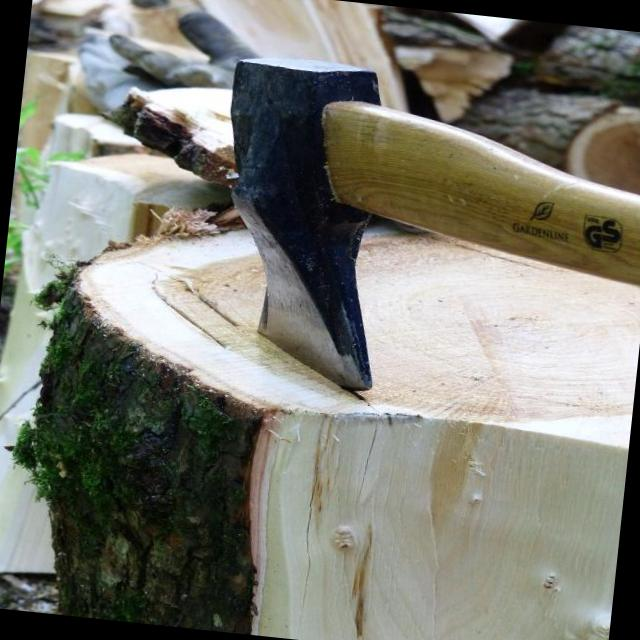Axe: (230, 59, 640, 389)
